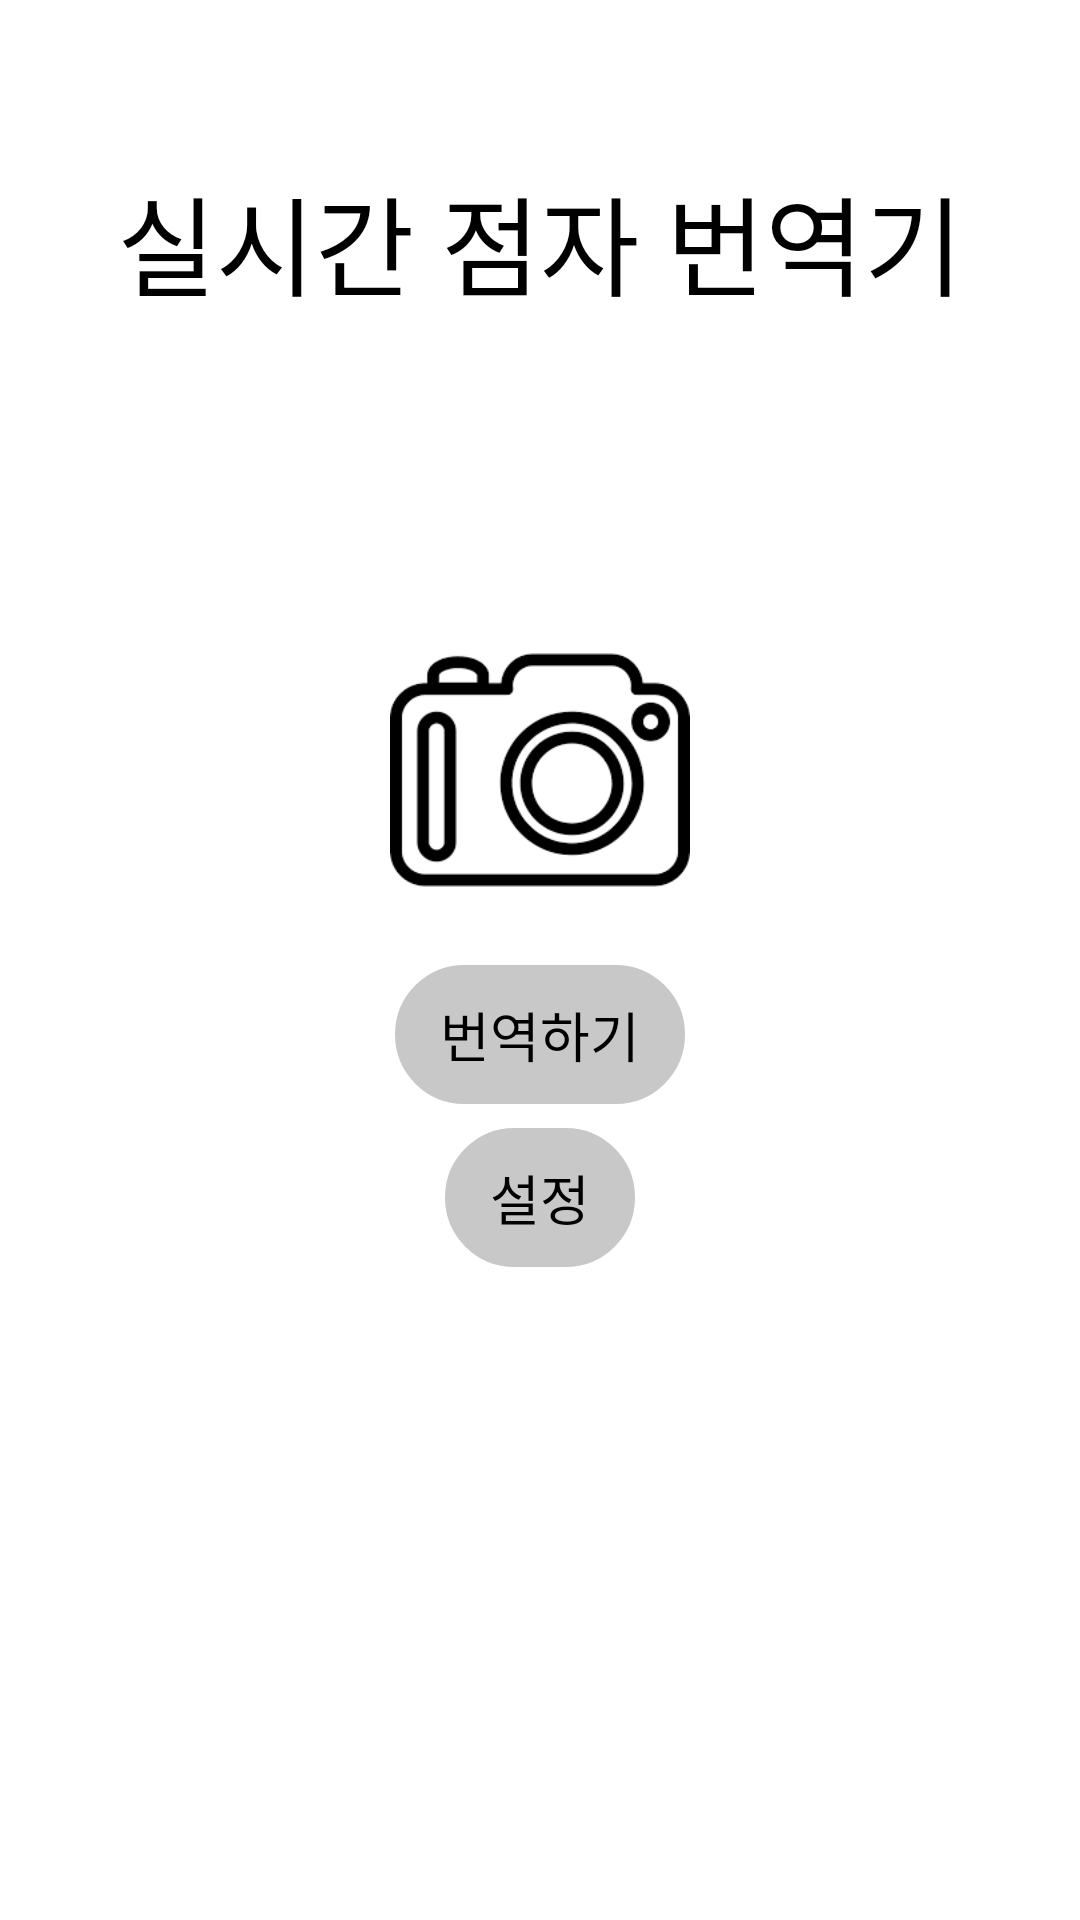

Icon bounding boxes for this 1080 × 1920 phone screenshot, format BBox(x1, y1, x2, y2):
camera: BBox(390, 653, 690, 887)
